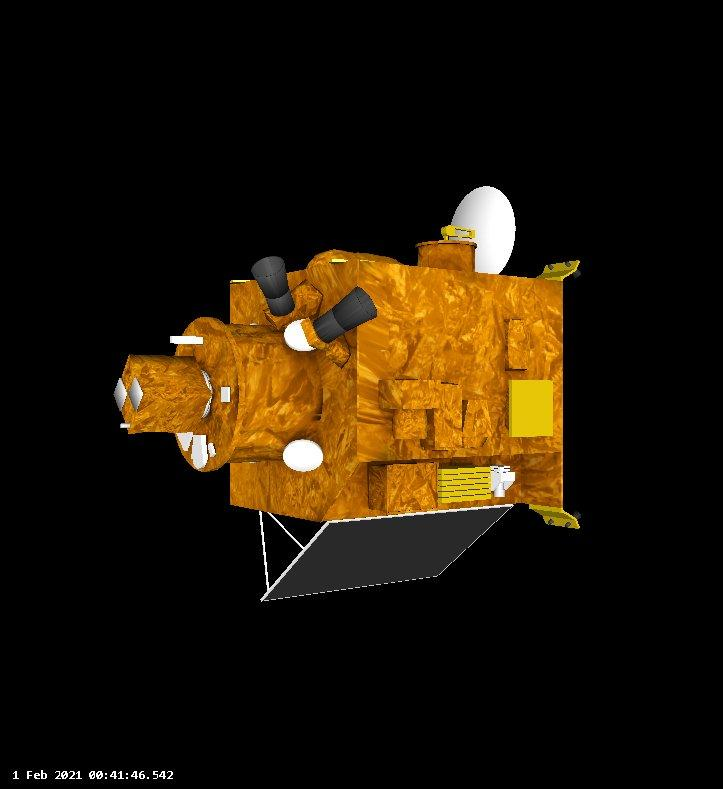antenna: (450, 184, 517, 276), (282, 438, 325, 473), (284, 318, 317, 352), (128, 376, 144, 413), (114, 378, 127, 413)
solar: (113, 243, 565, 524), (257, 501, 516, 605)
thruster: (313, 286, 380, 344), (253, 252, 295, 318), (568, 266, 583, 280), (494, 482, 507, 498), (569, 511, 582, 525)
